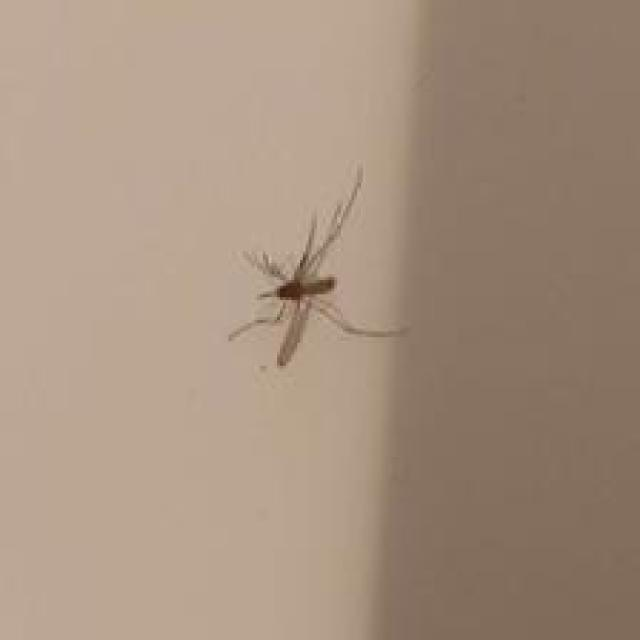Culex: (227, 163, 410, 368)
